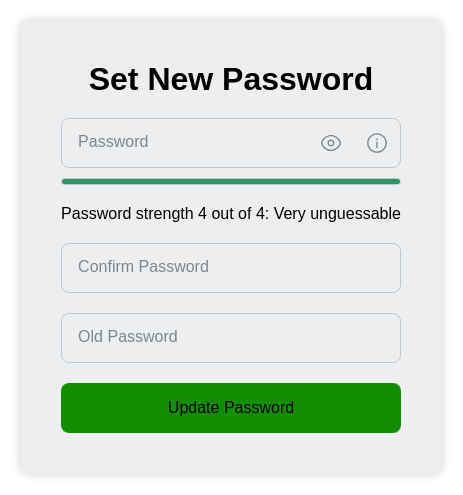
Functionality › Form; Input validation; "required" errors on empty inputs
This screenshot has width=463, height=495.
Expected: the password field labelled "Password" is shown, top-left (62, 119), bottom-right (308, 167)
Click the button "Update Password": {"x": 231, "y": 408} top-left (61, 383), bottom-right (401, 433)
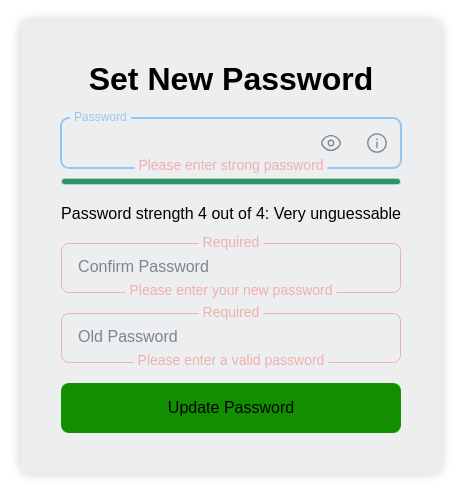
Result: the text "Please enter strong password" is shown at top-left (134, 157), bottom-right (328, 173)
Result: the text "Please enter your new password" is shown at top-left (125, 282), bottom-right (336, 298)
Result: the text "Please enter a valid password" is shown at top-left (134, 352), bottom-right (328, 368)
